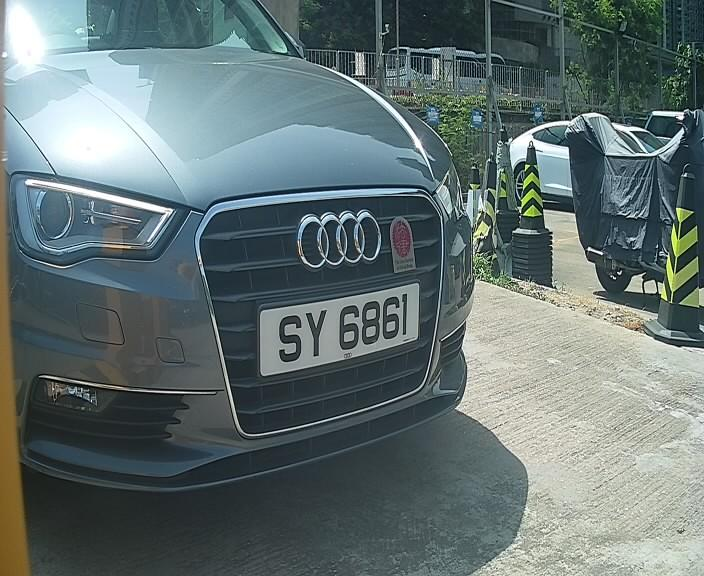License Plate: (258, 278, 412, 386)
